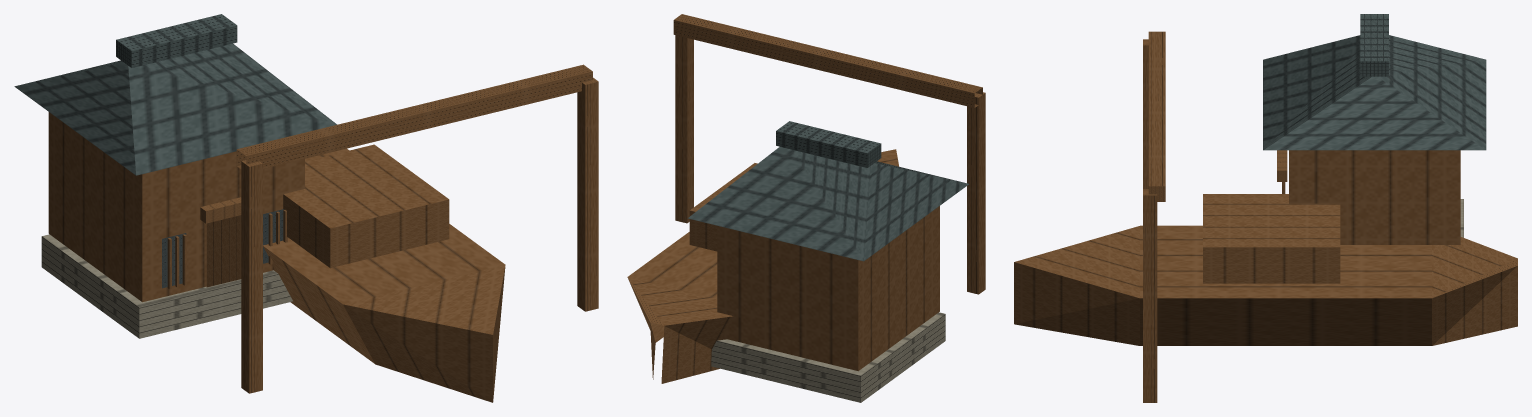
The model's file is domestic-SHIPYARD-1-lod1.glb.
The picture shows the model from 3 angles, left to right: view 1: azimuth 30°, elevation 25°; view 2: azimuth 150°, elevation 25°; view 3: azimuth 270°, elevation 25°; orthographic projection. The views are drawn at different scales.
Bounding box in the file's own units: 0.7325 × 0.45 × 0.88.
1 material, 1 textured.
